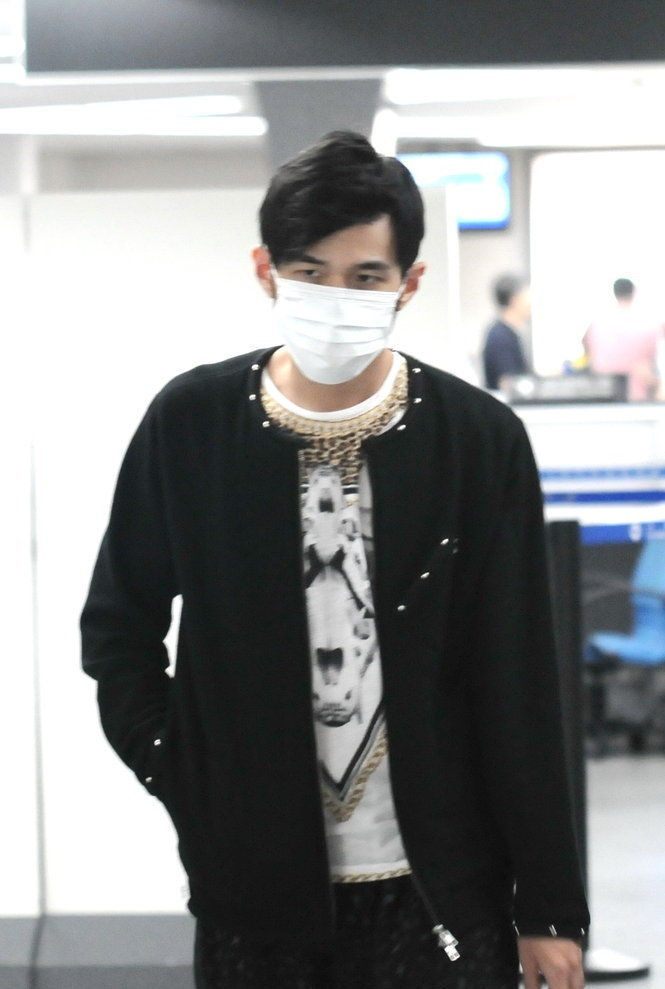face_mask: (274, 197, 398, 381)
